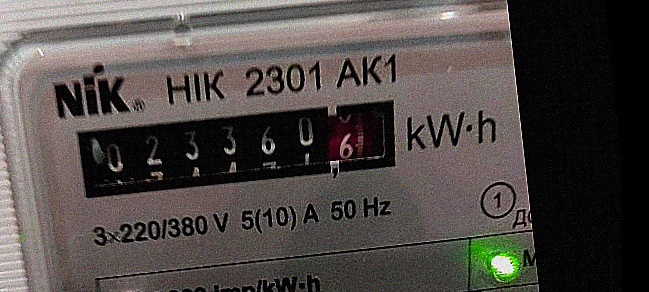0: (100, 136, 126, 174), (292, 111, 317, 148)
2: (140, 130, 165, 167)
3: (179, 126, 202, 163), (217, 121, 239, 157)
6: (254, 120, 278, 156), (334, 126, 355, 161)
screen: (61, 82, 421, 218)
